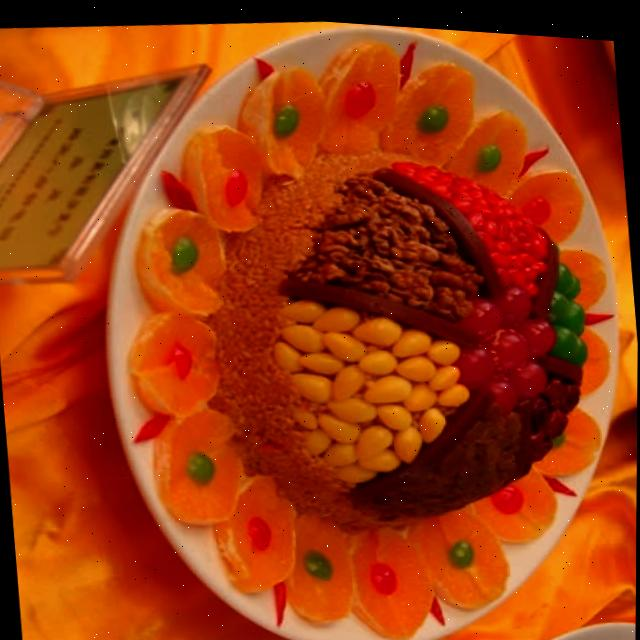米饭主食: (61, 3, 637, 640)
